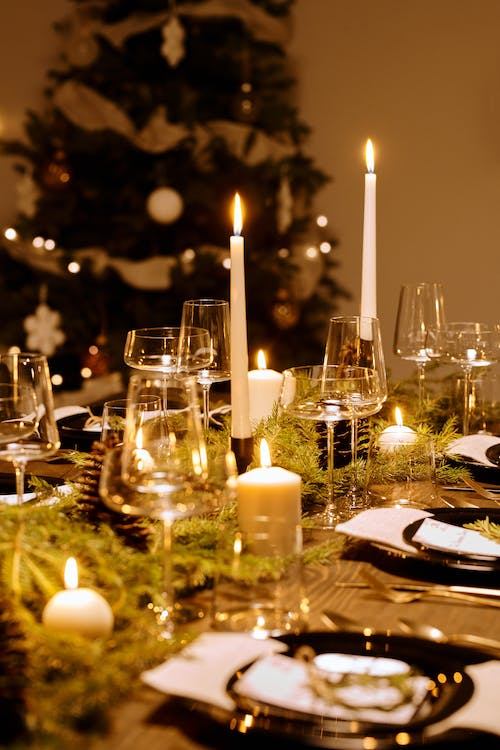knife: (334, 578, 500, 601), (438, 481, 500, 491)
